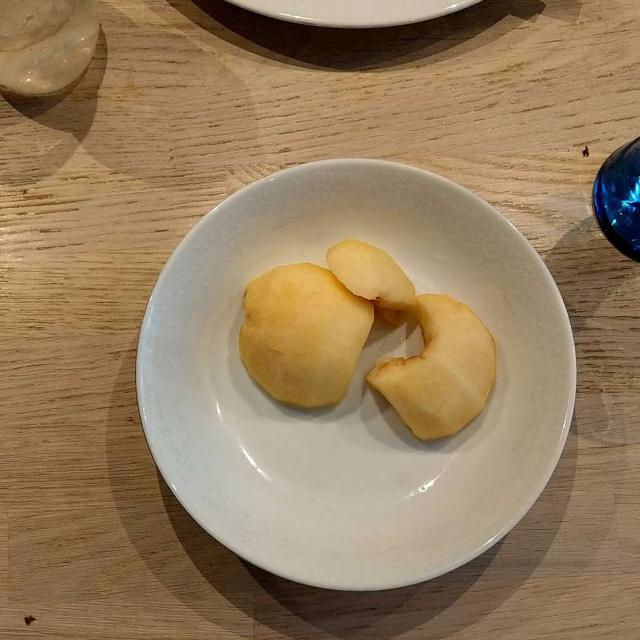apple: (234, 242, 500, 440)
